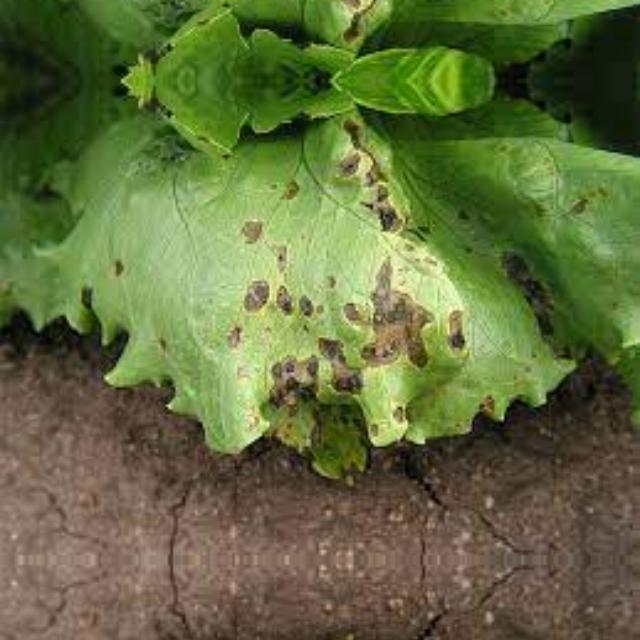Lettuce - Anthracnose: (38, 101, 594, 495), (37, 0, 594, 59), (37, 624, 594, 640)
